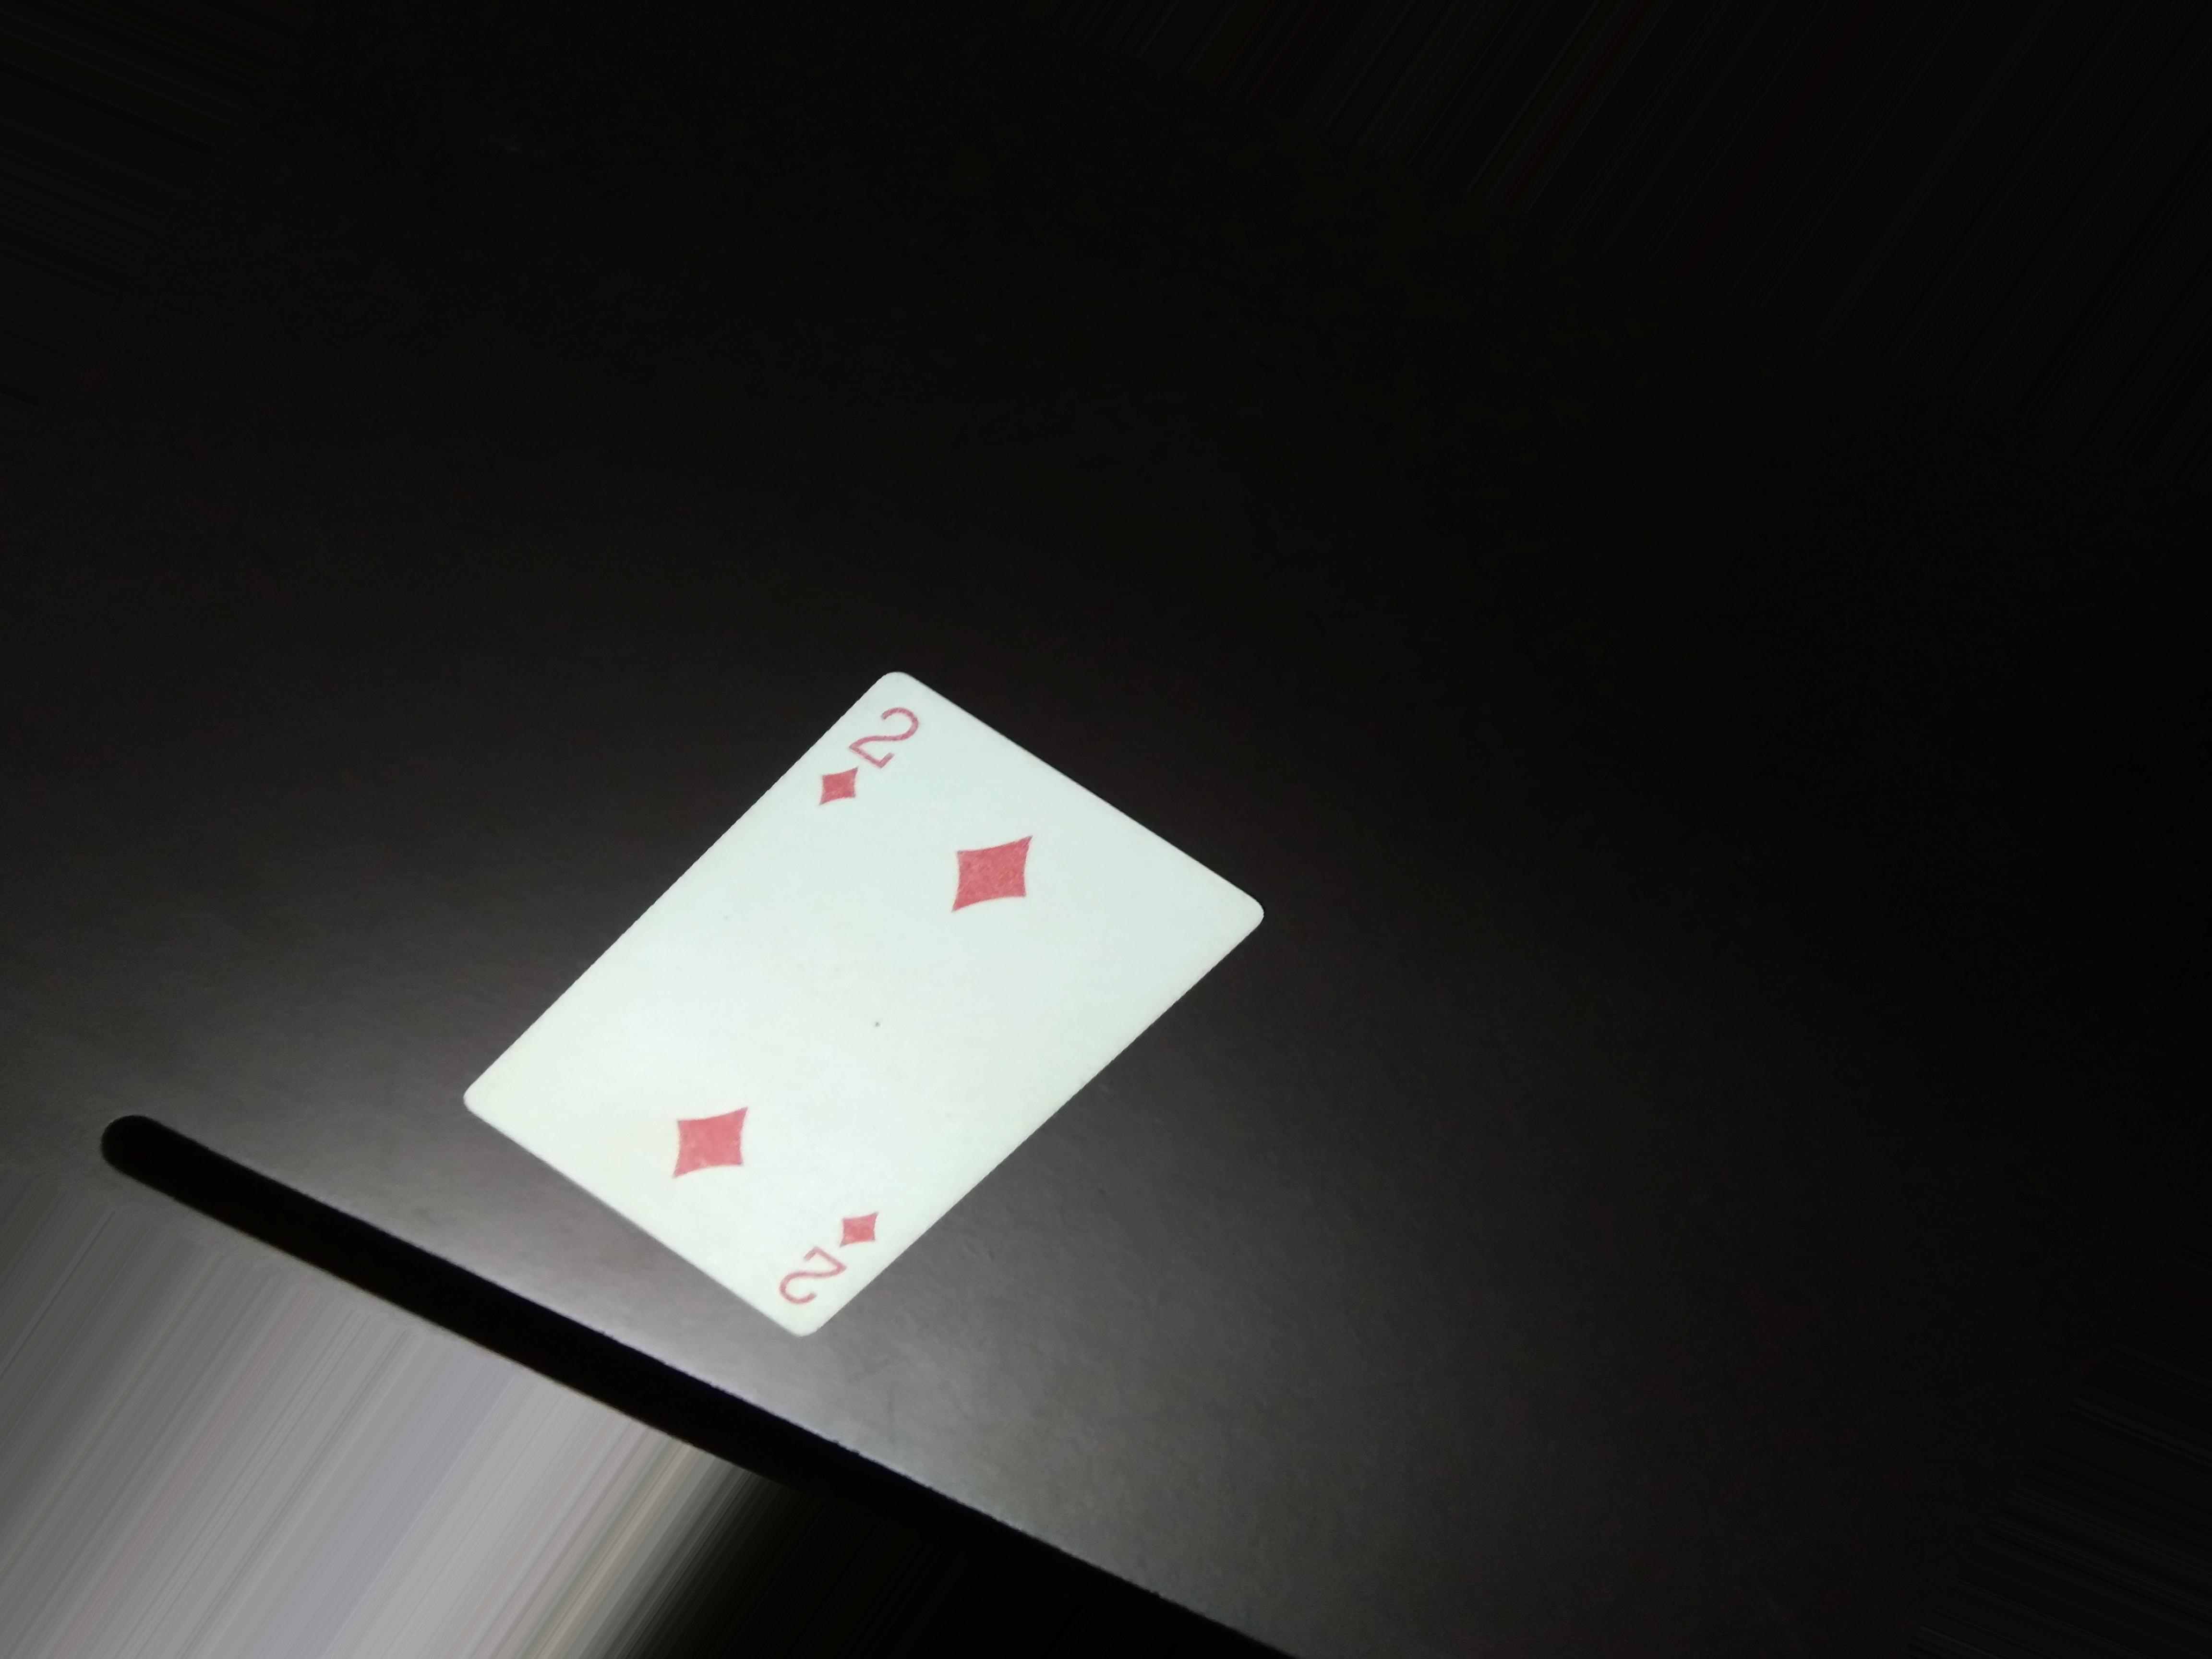2D: (761, 1199, 890, 1305)
